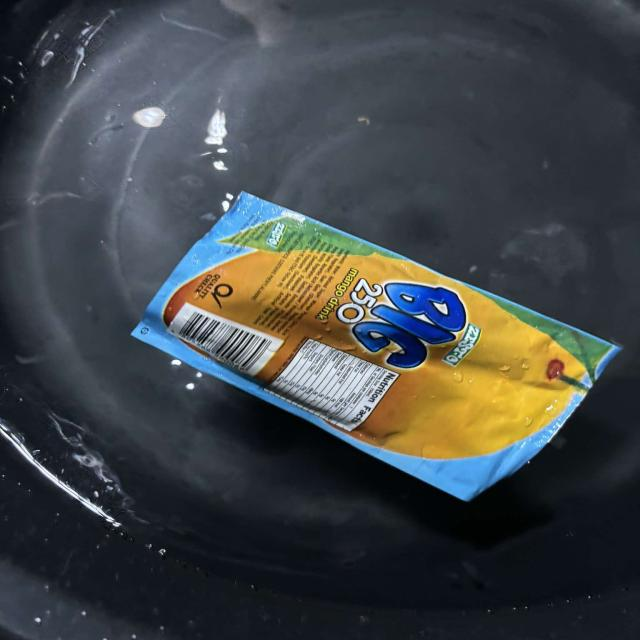Plastic Pouch: (123, 191, 622, 514)
